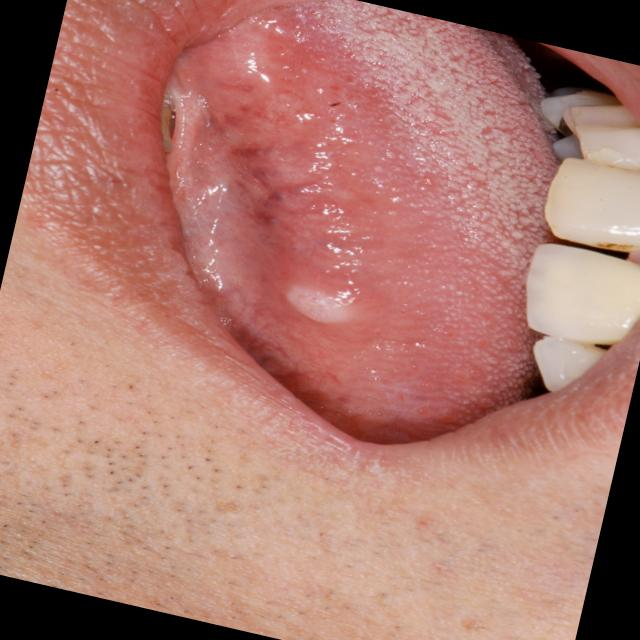Cancer: (99, 0, 499, 382)
